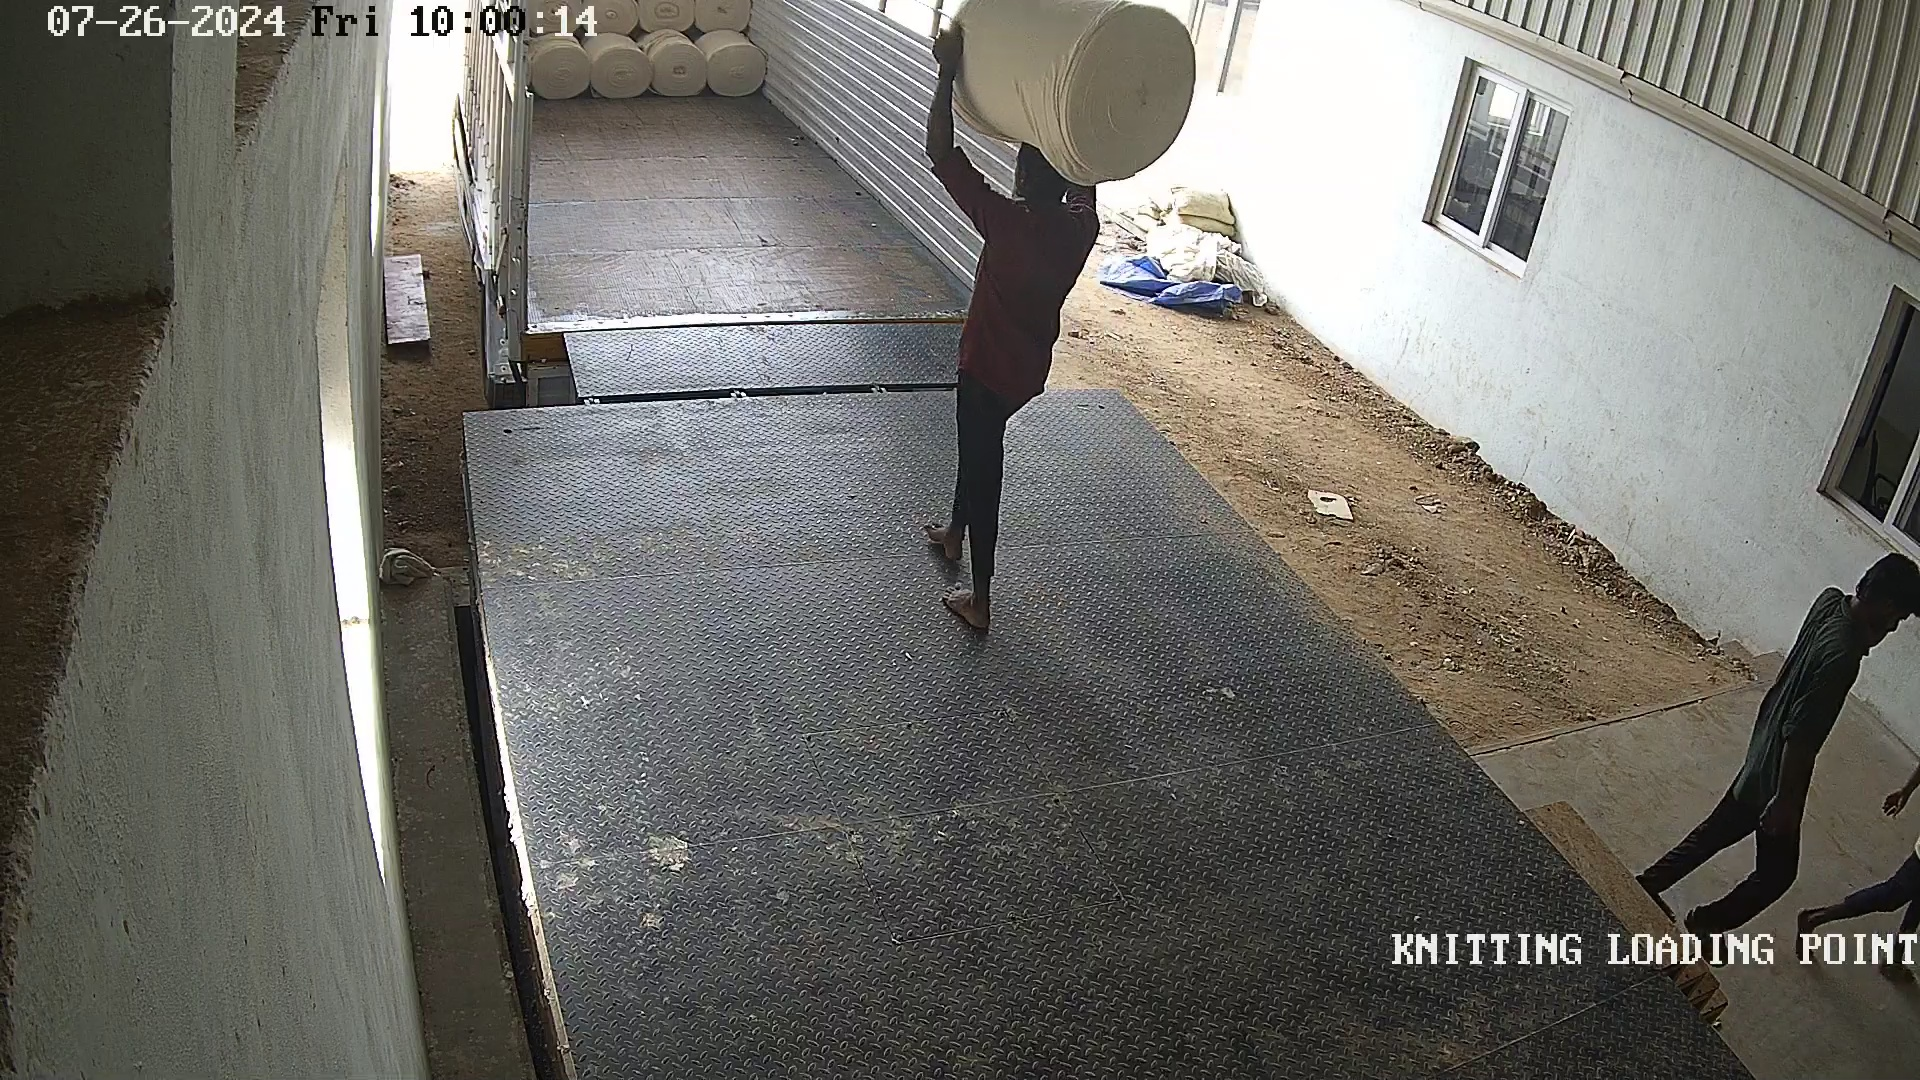bag: (931, 5, 1204, 185)
